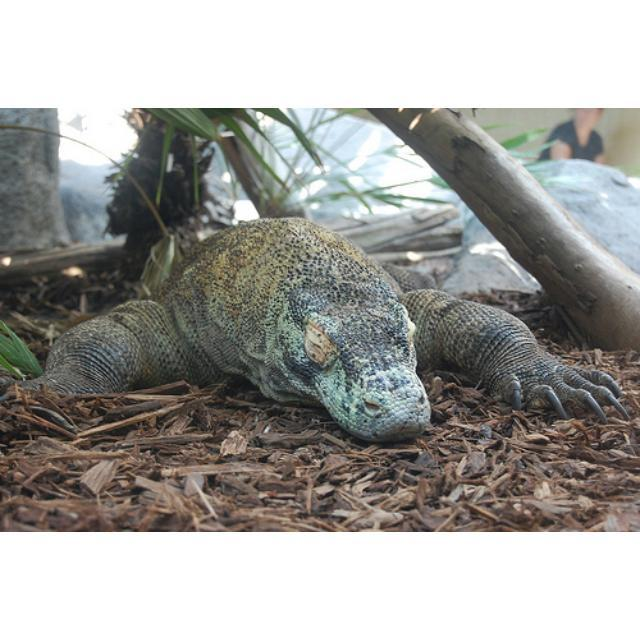KomodoDragon: (2, 215, 629, 447)
